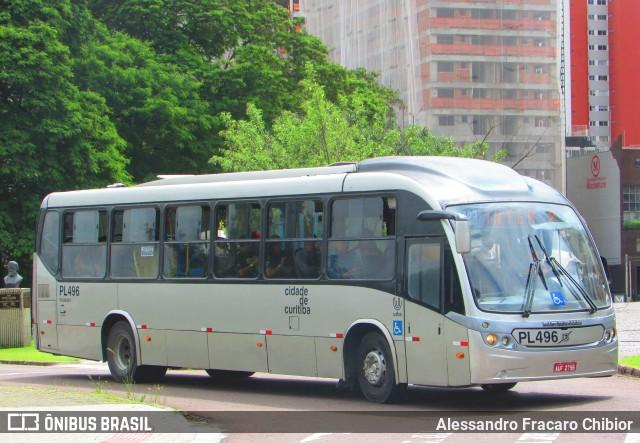INTER2: (483, 205, 560, 230)
